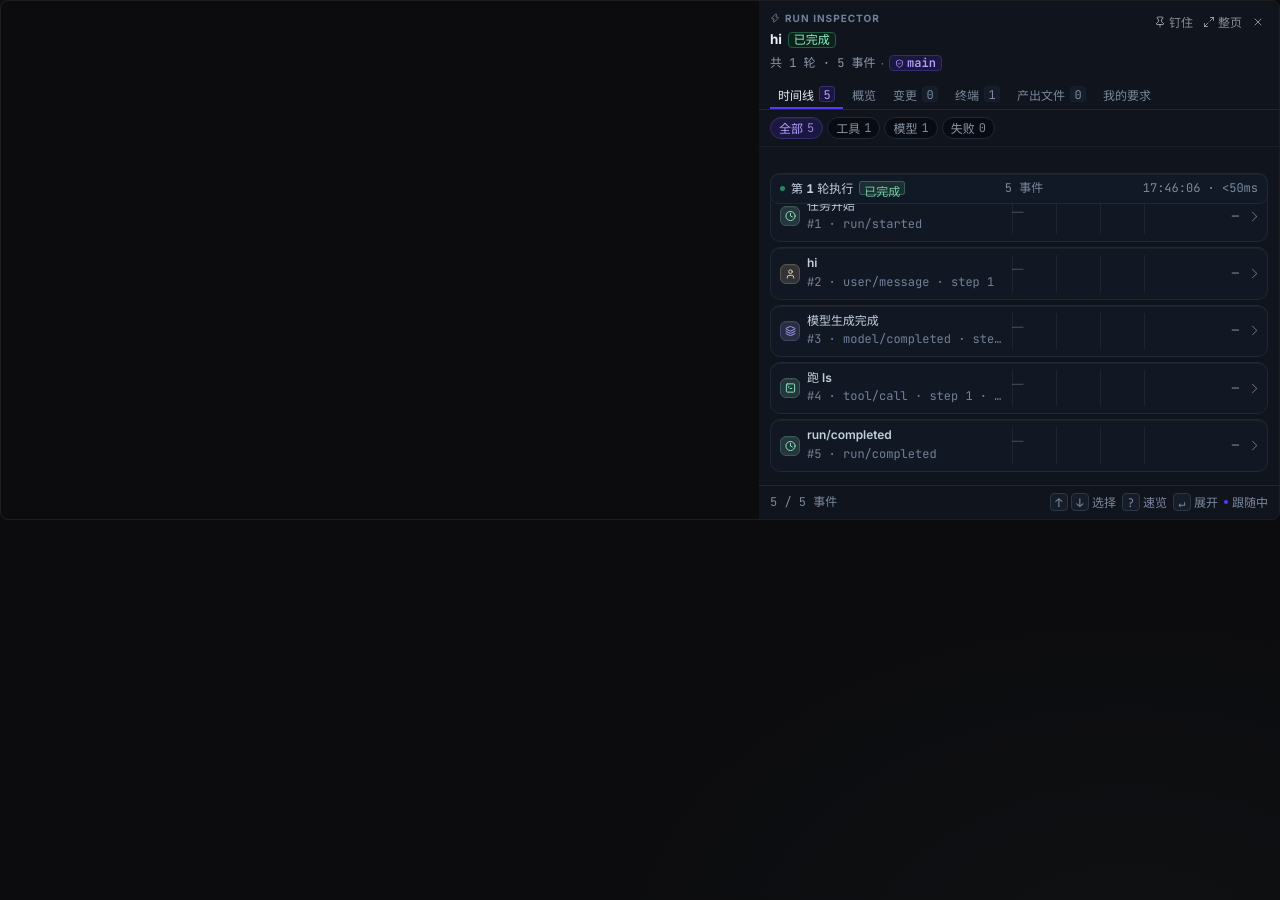
Test: F2 — 反例守卫（记忆化的键是输入，不是"永不重渲染"） › 点 Timeline 行：`focus` 换引用 ⇒ 重渲染并渲染出选中详情；聚焦带 run_id 的事件时 profile 派生重算（#1106）、轮次派生不重算
The width and height of the screenshot is (1280, 900).
Click the button with class "timeline-row" showing "任务开始 #1 · run/started —" at (1019, 216), box [771,191,1267,241]
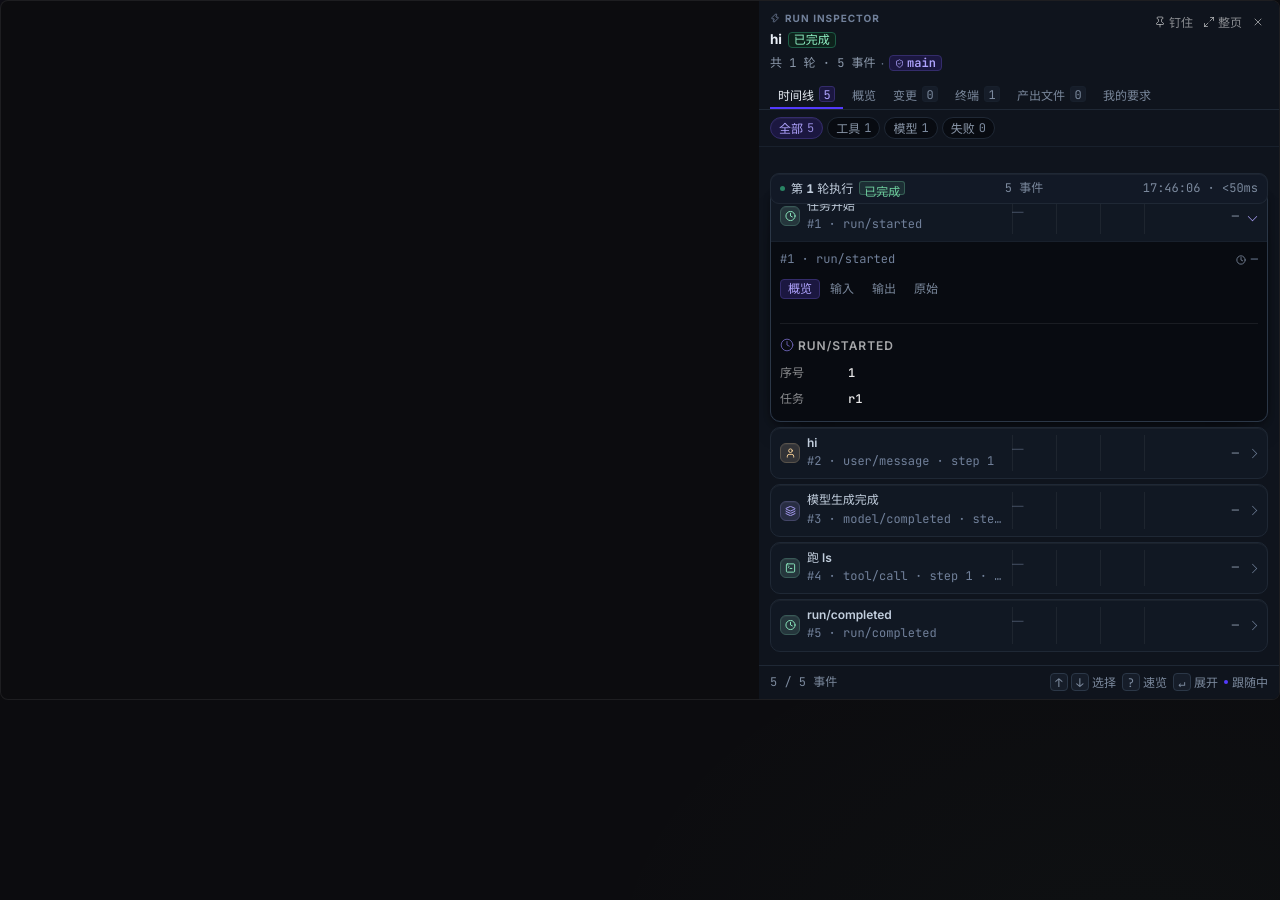
Expected: the element with class "expanded" is shown, [770,190,1268,422]
Result: the element with class "tl-drill" shows "#1 · run/started" at [780,250,1258,270]
